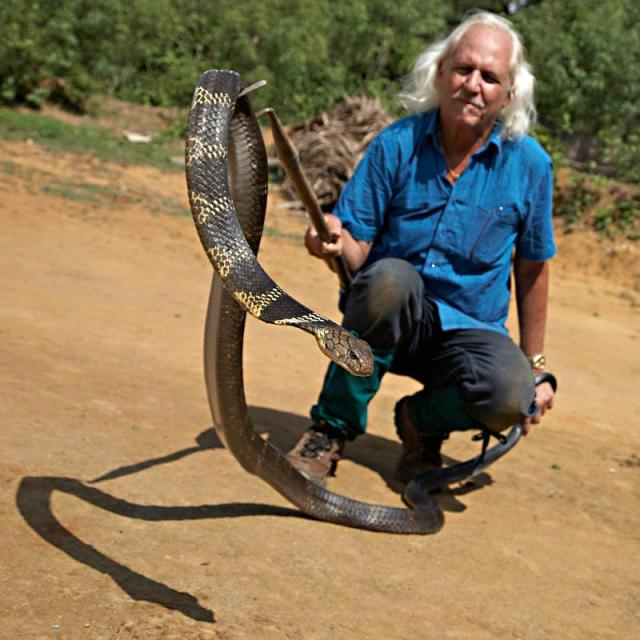Snake: (175, 49, 458, 536)
